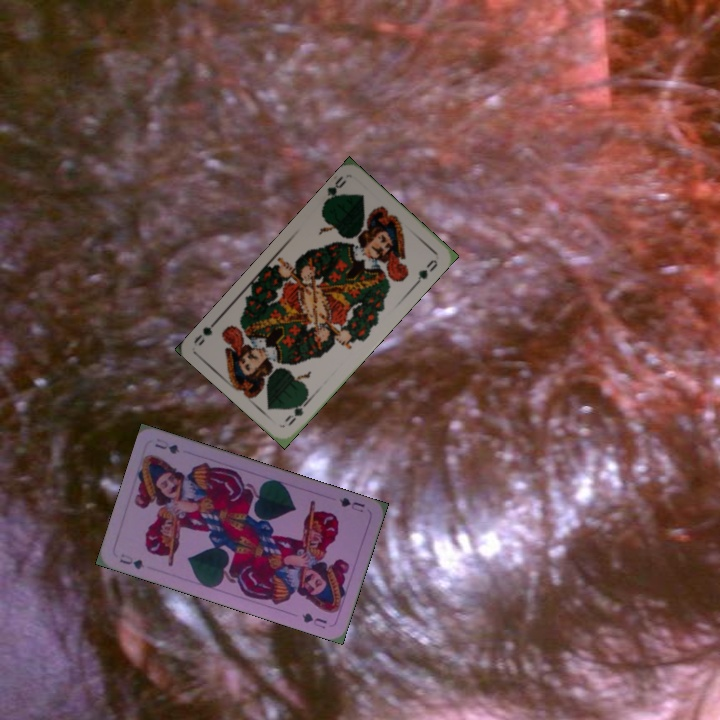GO: (280, 393, 313, 429), (319, 172, 349, 208)
GU: (335, 493, 367, 515), (116, 550, 147, 572)
